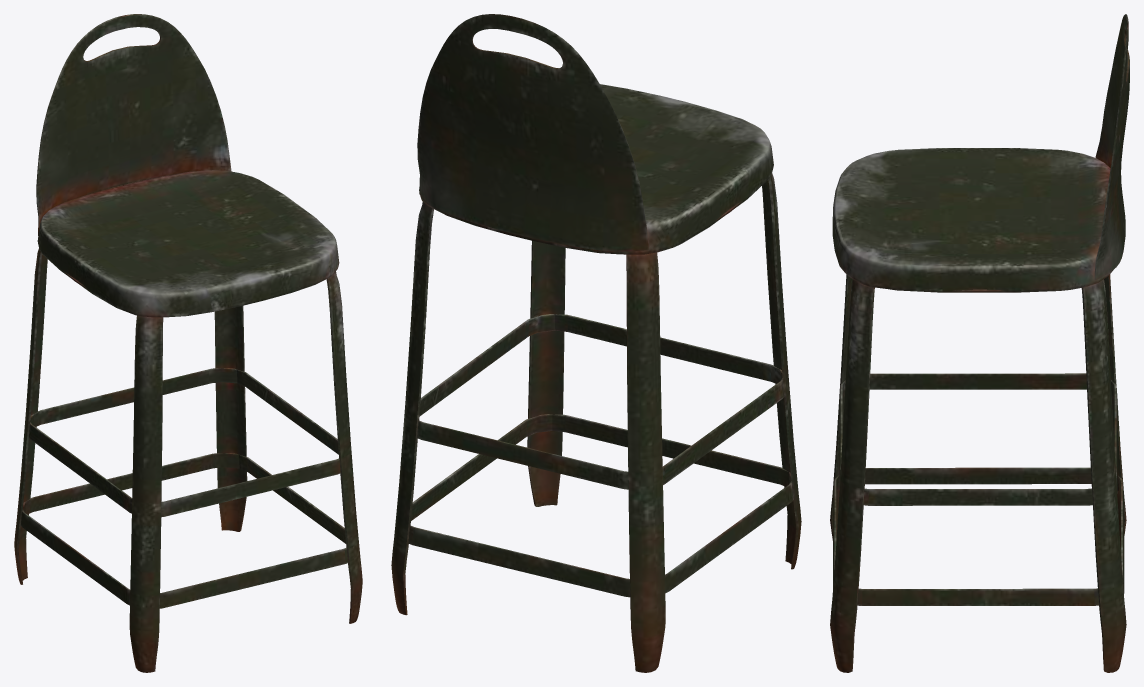
3 renders of one model, left to right at view 1: azimuth 30°, elevation 25°; view 2: azimuth 150°, elevation 25°; view 3: azimuth 270°, elevation 25°, orthographic. The views are drawn at different scales.
Parts seen in each view (by area): view 1: metal_stool_03; view 2: metal_stool_03; view 3: metal_stool_03.
Part boxes in pixels (x1,y1,x2,y2): metal_stool_03: [14, 14, 362, 672]; metal_stool_03: [391, 14, 801, 672]; metal_stool_03: [830, 14, 1129, 672].
Size of the model in its own units: 0.4606 by 1.02 by 0.4706.
1 material, 1 textured.
